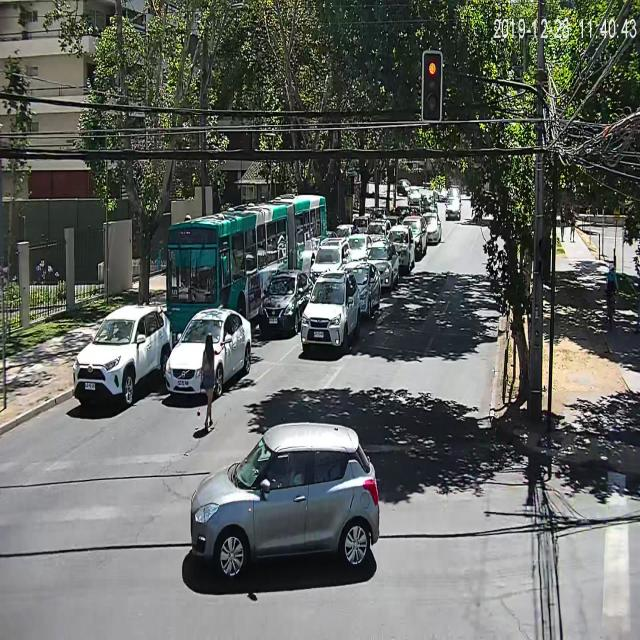AB: (159, 187, 327, 344)
